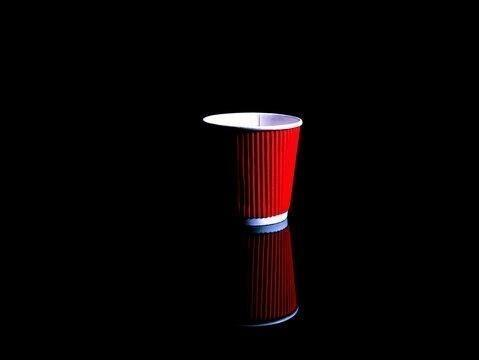cup-disposable: (200, 108, 305, 230)
